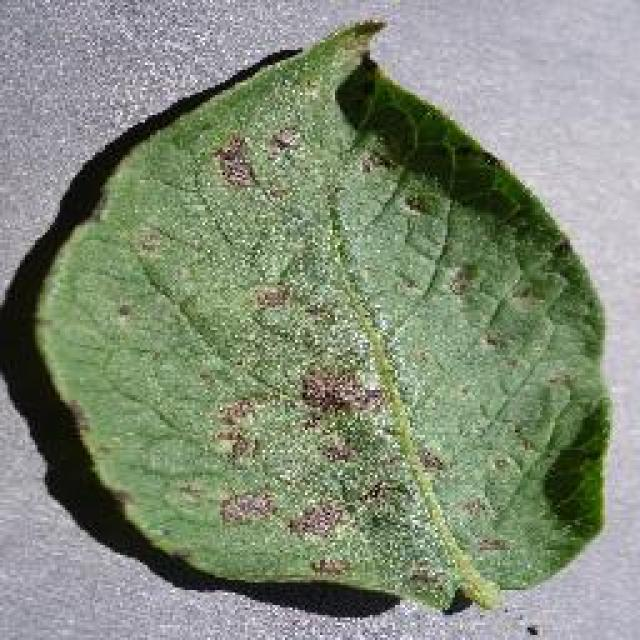early_blight: (23, 15, 615, 617)
